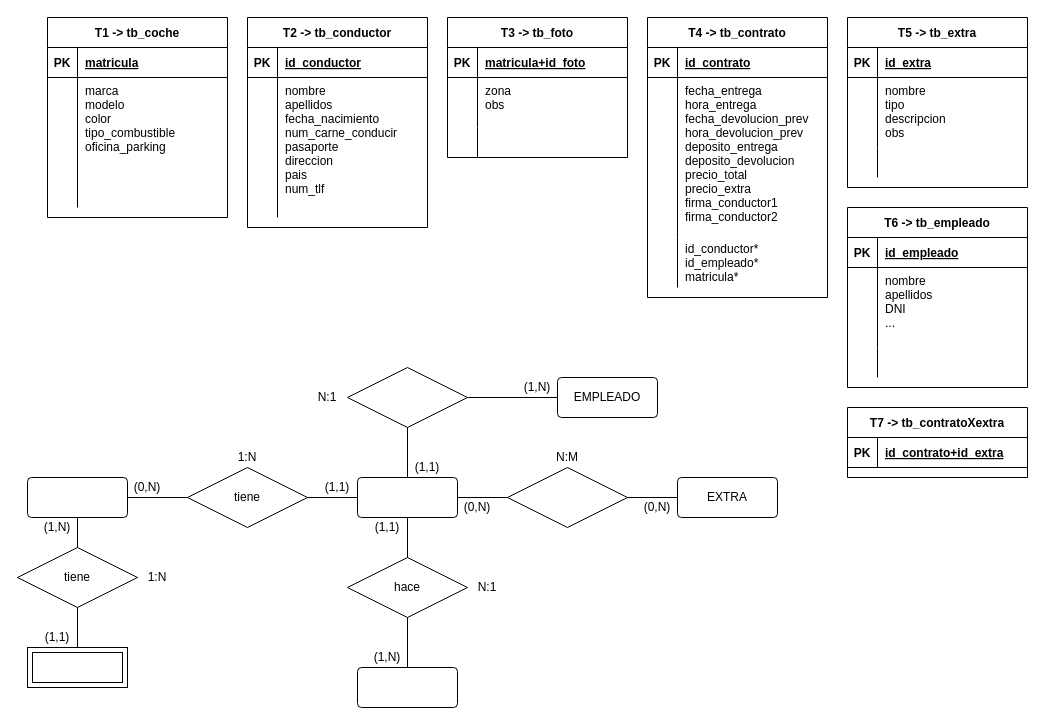
Image size: 1045x725. Some labels were removed from this diagram. Here are the shapes that lost their labels. From the top down, the centre of each, then its label:
At (x=407, y=397): "se encarga".
At (x=77, y=497): "COCHE".
At (x=407, y=497): "CONTRATO".
At (x=567, y=497): "incluye".
At (x=77, y=667): "FOTO".
At (x=407, y=687): "CONDUCTOR".
